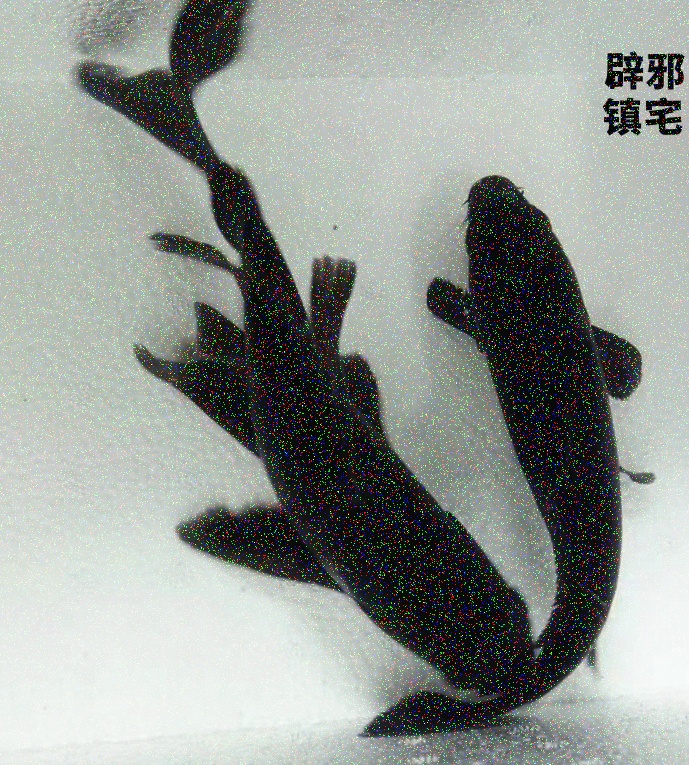fry: (57, 4, 520, 746), (424, 149, 652, 726)
